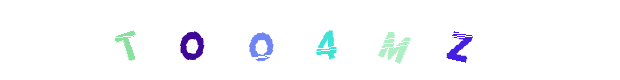4: (270, 0, 350, 80)
M: (287, 0, 367, 80)
O: (222, 0, 302, 80), (253, 0, 333, 80)
T: (152, 0, 232, 80)
Z: (412, 0, 492, 80)
